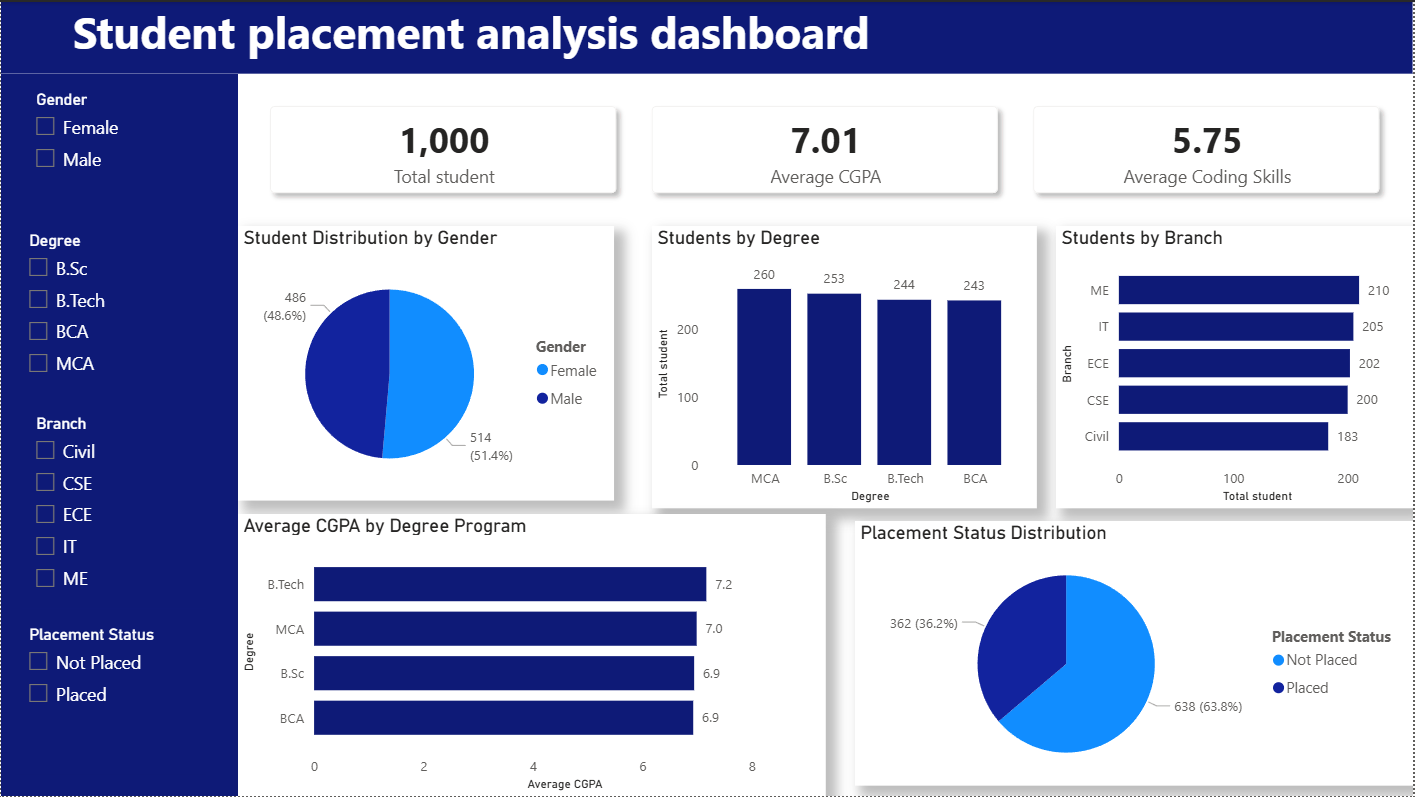

Layout of this report page (visuals, bound fields, positions):
{"tool":"powerbi","page":{"name":"Page 1","canvas":[1280,720],"ordinal":0},"visuals":[{"type":"shape","box":[0,0,1280,65.2],"z":0},{"type":"shape","box":[0,65.3,214.9,654.7],"z":1},{"type":"cardVisual","fields":{"Data":["College to Career Bridge2.Total student","College to Career Bridge2.Average CGPA","College to Career Bridge2.Average Coding Skills"]},"box":[214.9,65.3,1065.5,137.8],"z":2},{"type":"pieChart","title":"Student Distribution by Gender","fields":{"Category":["College to Career Bridge2.Gender"],"Y":["College to Career Bridge2.Total student"]},"box":[214.9,203.1,341,249.4],"z":3},{"type":"columnChart","title":"Students by Degree","fields":{"Category":["College to Career Bridge2.Degree"],"Y":["College to Career Bridge2.Total student"]},"box":[590.3,203.1,349.1,255.7],"z":4},{"type":"clusteredBarChart","title":"Students by Branch","fields":{"Category":["College to Career Bridge2.Branch"],"Y":["College to Career Bridge2.Total student"]},"box":[956.7,203.1,323.7,255.7],"z":5},{"type":"clusteredBarChart","title":"Average CGPA by Degree Program","fields":{"Category":["College to Career Bridge2.Degree"],"Y":["College to Career Bridge2.Average CGPA"]},"box":[214.9,464.3,533.2,255.7],"z":6},{"type":"slicer","fields":{"Values":["College to Career Bridge2.Gender"]},"box":[19,75.3,144.2,103.4],"z":8},{"type":"slicer","fields":{"Values":["College to Career Bridge2.Degree"]},"box":[12.7,203.1,173.2,149.6],"z":9},{"type":"slicer","fields":{"Values":["College to Career Bridge2.Branch"]},"box":[19,369.1,166.9,181.4],"z":10},{"type":"slicer","fields":{"Values":["College to Career Bridge2.Placement Status"]},"box":[12.7,560.4,173.2,139.6],"z":11},{"type":"pieChart","title":"Placement Status Distribution","fields":{"Category":["College to Career Bridge2.Placement Status"],"Y":["College to Career Bridge2.Total student"]},"box":[774.4,470.6,506,240.3],"z":12}]}

Visuals, with their boxes in screenshot pixels (x1, y1, x2, y2), scaled from the page's 1280x720 canvas onto the 1415x797 screenshot:
shape: 0/0/1414/72
shape: 0/72/238/796
cardVisual - College to Career Bridge2.Total student x College to Career Bridge2.Average CGPA: 238/72/1414/225
"Student Distribution by Gender" pieChart: 238/225/615/501
"Students by Degree" columnChart: 653/225/1038/508
"Students by Branch" clusteredBarChart: 1058/225/1414/508
"Average CGPA by Degree Program" clusteredBarChart: 238/514/827/796
slicer - College to Career Bridge2.Gender: 21/83/180/198
slicer - College to Career Bridge2.Degree: 14/225/206/390
slicer - College to Career Bridge2.Branch: 21/409/206/609
slicer - College to Career Bridge2.Placement Status: 14/620/206/775
"Placement Status Distribution" pieChart: 856/521/1414/787
